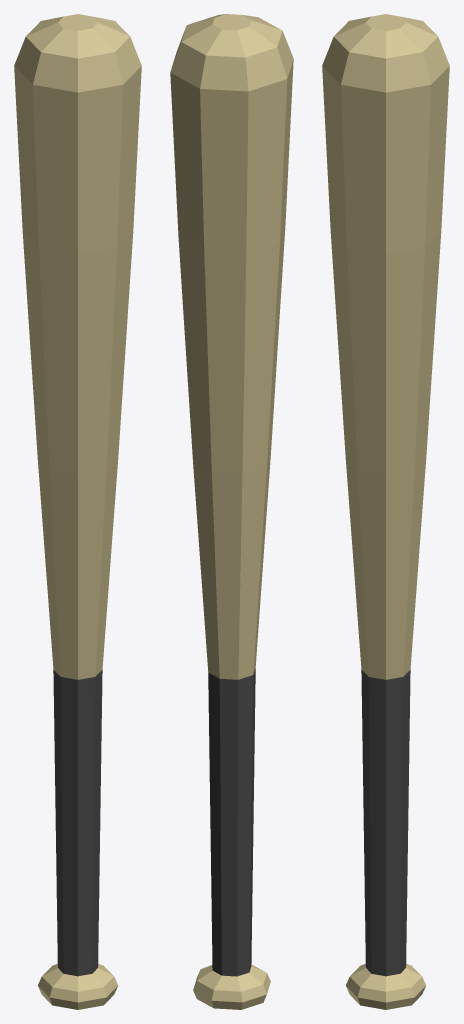
Rendered from Baseball Bat.fbx.
3 renders of one model, left to right at view 1: azimuth 90°, elevation 25°; view 2: azimuth 150°, elevation 25°; view 3: azimuth 270°, elevation 25°, orthographic.
Parts seen in each view (by area): view 1: Baseball Bat; view 2: Baseball Bat; view 3: Baseball Bat.
Part boxes in pixels (bbox=[...]): Baseball Bat: bbox=[14, 14, 141, 1009]; Baseball Bat: bbox=[170, 14, 293, 1009]; Baseball Bat: bbox=[322, 14, 449, 1009].
Size of the model in its own units: 114 by 965 by 114.
